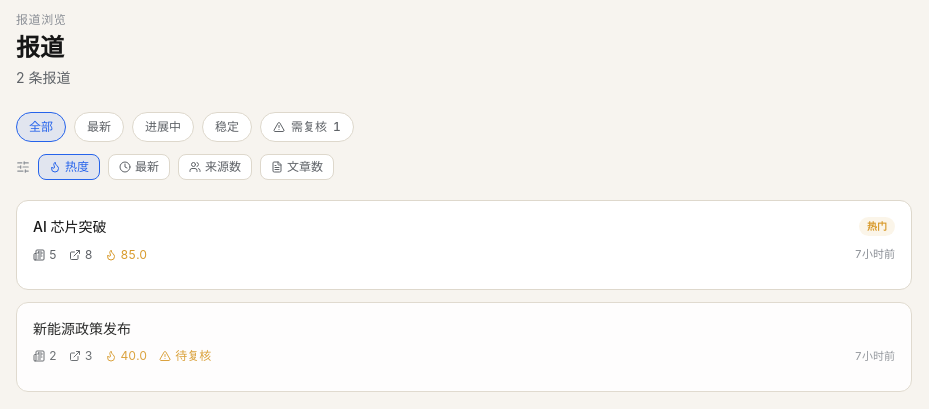
Test: StoriesPage › 状态筛选 chips 可点击
The image size is (929, 409).
Expected: the heading "报道" is shown, [16, 33, 64, 62]
Click the 1st button "最新": [99, 127] box [74, 112, 124, 142]
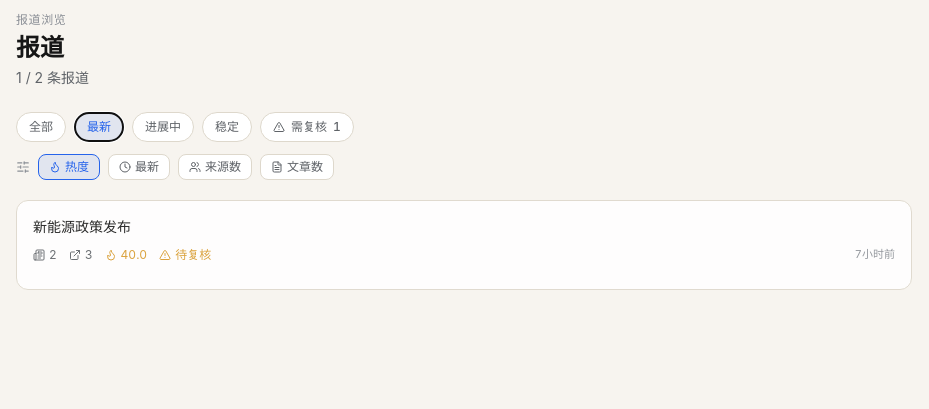
Expected: the heading "新能源政策发布" is shown, [33, 218, 131, 235]
Expected: the button "AI 芯片突破" is gone
